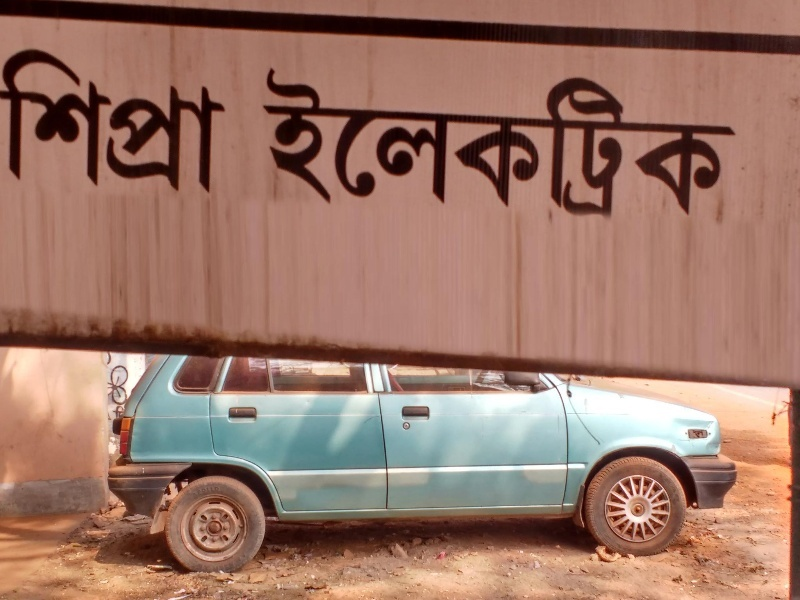text: (257, 58, 272, 243), (273, 58, 288, 243), (289, 58, 304, 243), (305, 58, 320, 243), (321, 58, 336, 243), (337, 58, 352, 243), (353, 58, 368, 243), (369, 58, 384, 243), (385, 58, 400, 243), (401, 58, 416, 243), (417, 58, 432, 243), (433, 58, 448, 243), (449, 58, 464, 243), (465, 58, 480, 243), (481, 58, 496, 243), (497, 58, 512, 243), (513, 58, 528, 243), (529, 58, 544, 243), (545, 58, 560, 243), (561, 58, 576, 243), (577, 58, 592, 243), (593, 58, 608, 243), (609, 58, 624, 243), (625, 58, 640, 243), (641, 58, 656, 243), (657, 58, 672, 243), (673, 58, 688, 243), (689, 58, 704, 243), (705, 58, 720, 243), (721, 58, 736, 243), (17, 33, 32, 208), (33, 33, 48, 208), (49, 33, 64, 208), (65, 33, 80, 208), (81, 33, 96, 208), (97, 33, 112, 208), (113, 33, 128, 208), (129, 33, 144, 208), (145, 33, 160, 208), (161, 33, 176, 208), (177, 33, 192, 208), (193, 33, 208, 208), (209, 33, 224, 208), (2, 33, 16, 208), (225, 33, 236, 208), (737, 58, 743, 243)
